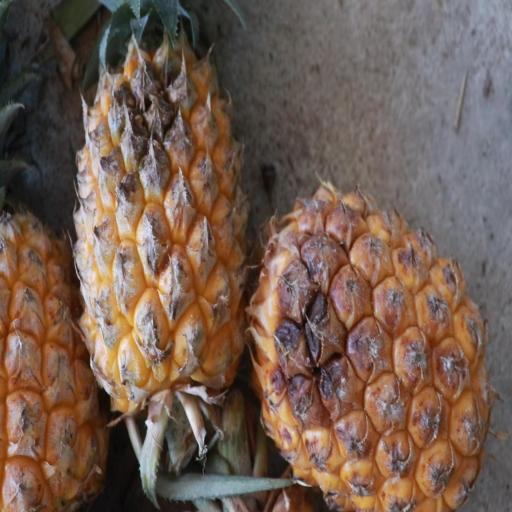Pineapple - v8 v1: (242, 179, 490, 512), (70, 4, 248, 435)
